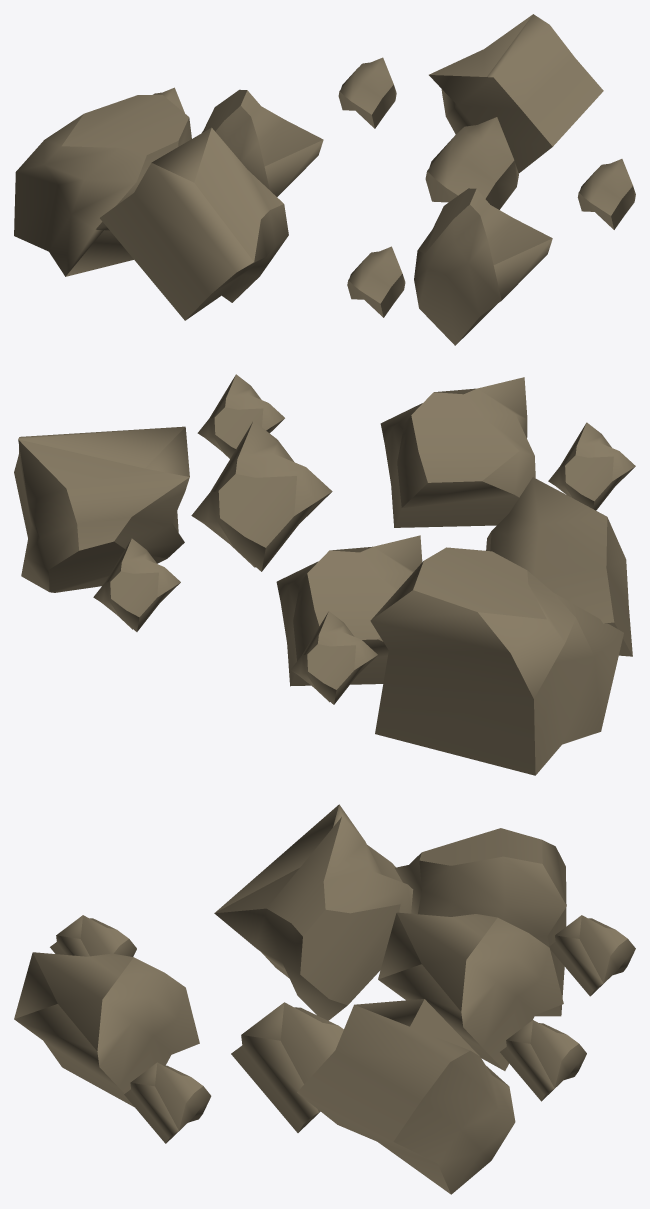
Rendered from Food_Empty.fbx.
3 renders of one model, top to bottom at view 1: azimuth 30°, elevation 25°; view 2: azimuth 150°, elevation 25°; view 3: azimuth 270°, elevation 25°, orthographic. The views are drawn at different scales.
Parts seen in each view (by area): view 1: Empty; view 2: Empty; view 3: Empty.
Boxes of the visible parts, x1,y1,x2,y2 form: Empty: [14, 14, 635, 345]; Empty: [14, 374, 635, 775]; Empty: [14, 804, 635, 1194].
Bounding box in the file's own units: 1.76 × 0.5664 × 1.6.
